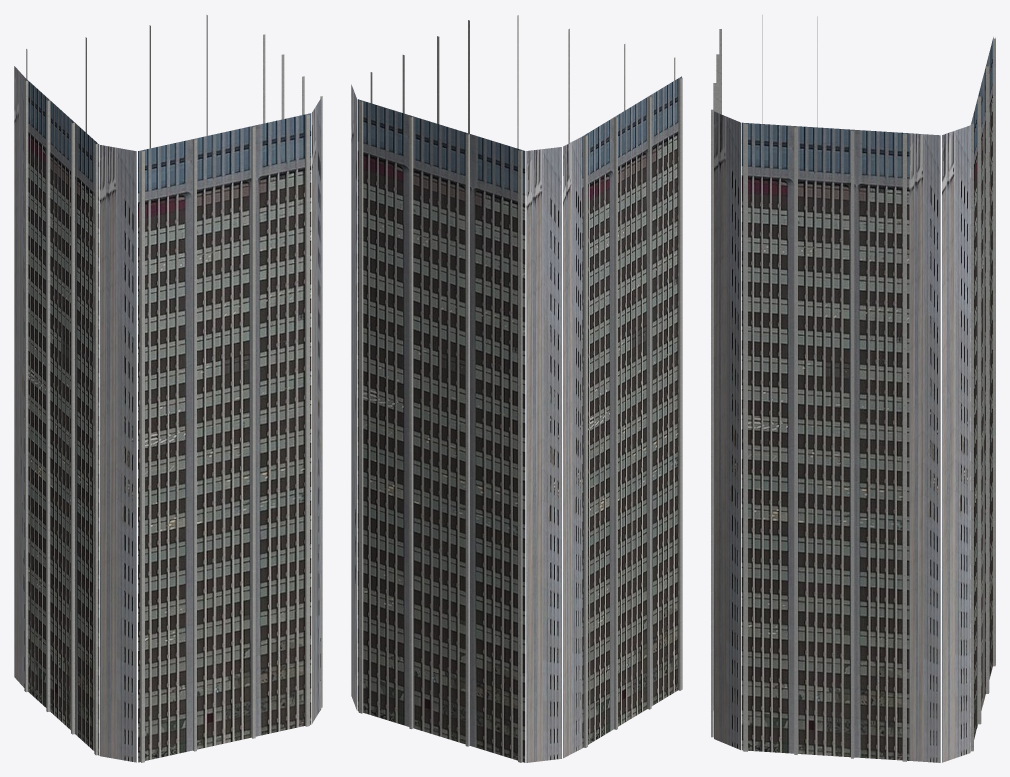
3 renders of one model, left to right at view 1: azimuth 30°, elevation 25°; view 2: azimuth 150°, elevation 25°; view 3: azimuth 270°, elevation 25°, orthographic. The views are drawn at different scales.
Visible parts, largest first — view 1: Surveyed facade, Projecting piers; view 2: Surveyed facade, Projecting piers; view 3: Surveyed facade, Projecting piers.
Boxes of the visible parts, left/top/right/bottom form: Surveyed facade: left=14, top=66, right=321, bottom=762; Projecting piers: left=24, top=15, right=322, bottom=762; Surveyed facade: left=351, top=76, right=681, bottom=762; Projecting piers: left=358, top=15, right=682, bottom=762; Surveyed facade: left=714, top=37, right=993, bottom=762; Projecting piers: left=711, top=15, right=995, bottom=761.
Bounding box in the file's own units: 38.53 × 93.01 × 38.26.
2 materials, 2 textured.
